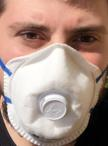with_mask: (1, 1, 108, 146)
